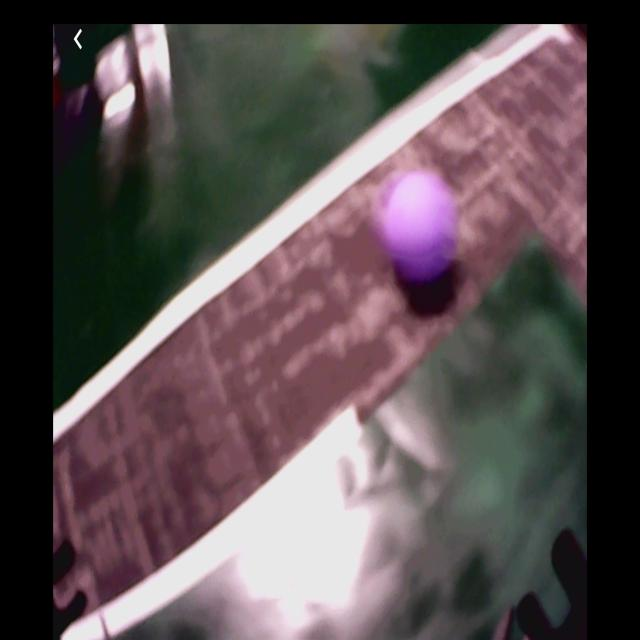ball: (383, 169, 457, 287)
